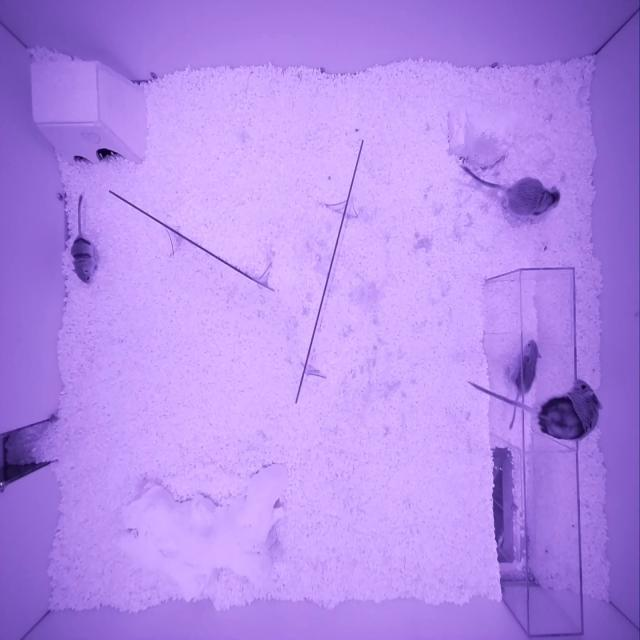adult_back: (531, 380, 603, 441)
adult_front: (506, 176, 560, 216)
pup_h_stripe: (71, 235, 95, 284)
pup_v_stripe: (509, 341, 542, 395)
